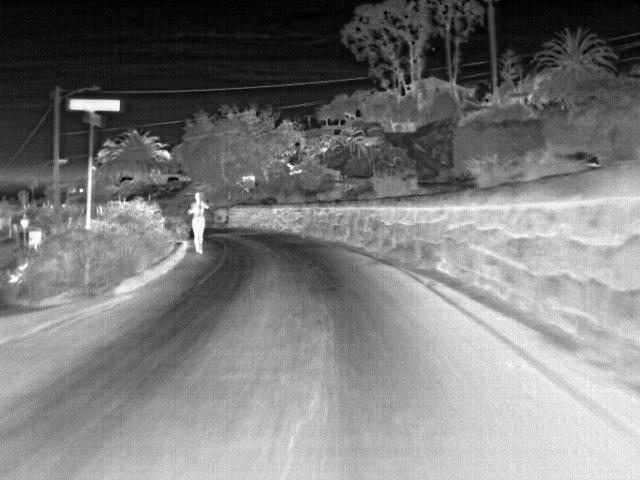person: (188, 190, 209, 257)
